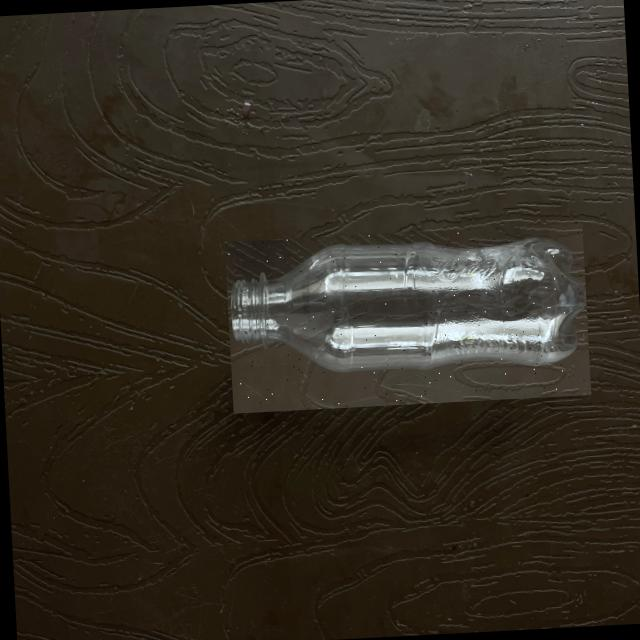PET_ClearBottle: (224, 223, 590, 414)
